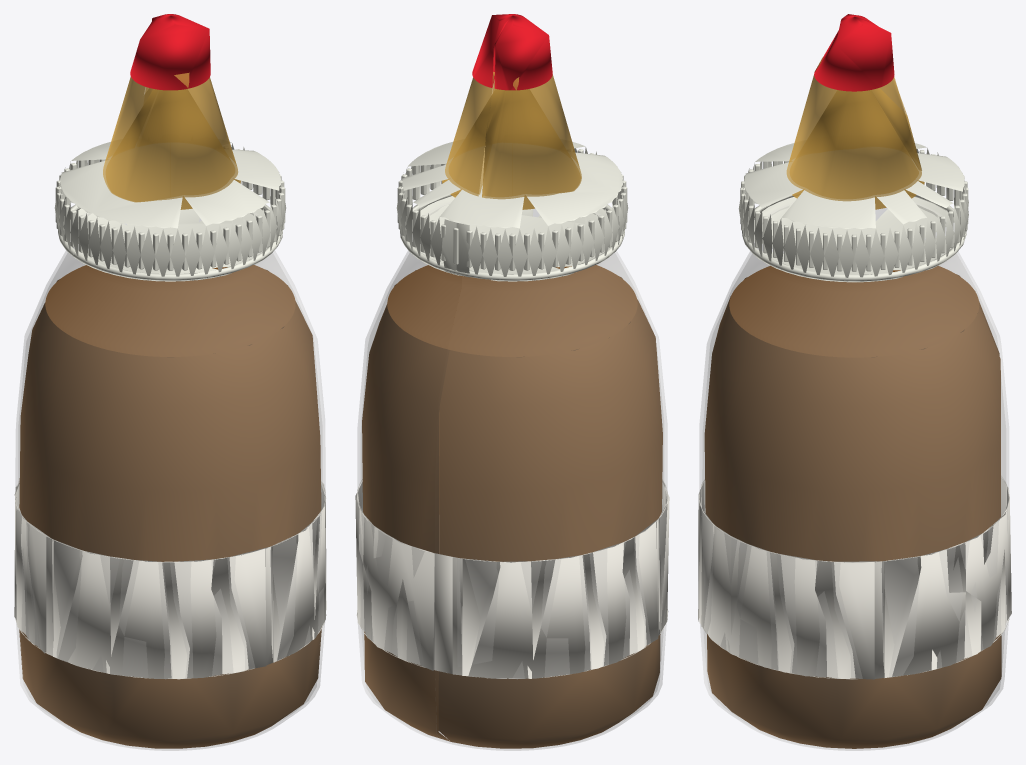
3 renders of one model, left to right at view 1: azimuth 30°, elevation 25°; view 2: azimuth 150°, elevation 25°; view 3: azimuth 270°, elevation 25°, orthographic.
Parts seen in each view (by area): view 1: thin shell with corrected shoulder, separate contents, lower paper band, removable closure, amber tapered nozzle, short protective tip, closure lower bead; view 2: thin shell with corrected shoulder, separate contents, lower paper band, removable closure, amber tapered nozzle, short protective tip, closure lower bead; view 3: thin shell with corrected shoulder, separate contents, lower paper band, removable closure, amber tapered nozzle, short protective tip, closure lower bead.
Part boxes in pixels (<box>): thin shell with corrected shoulder: <box>15,212,325,750</box>; separate contents: <box>19,265,321,748</box>; lower paper band: <box>14,481,326,679</box>; removable closure: <box>54,142,286,281</box>; amber tapered nozzle: <box>103,73,240,209</box>; short protective tip: <box>130,14,210,90</box>; closure lower bead: <box>58,204,282,280</box>; thin shell with corrected shoulder: <box>357,201,667,750</box>; separate contents: <box>362,265,662,748</box>; lower paper band: <box>355,479,669,679</box>; removable closure: <box>396,142,628,281</box>; amber tapered nozzle: <box>442,72,581,209</box>; short protective tip: <box>472,14,552,90</box>; closure lower bead: <box>400,194,624,280</box>; thin shell with corrected shoulder: <box>699,202,1008,750</box>; separate contents: <box>704,265,1001,748</box>; lower paper band: <box>698,475,1011,679</box>; removable closure: <box>738,143,968,282</box>; amber tapered nozzle: <box>786,57,924,209</box>; short protective tip: <box>814,14,894,91</box>; closure lower bead: <box>742,195,966,281</box>.
Size of the model in its own units: 0.0646 by 0.1552 by 0.0649.
Materials: 6 (1 with a texture image).
